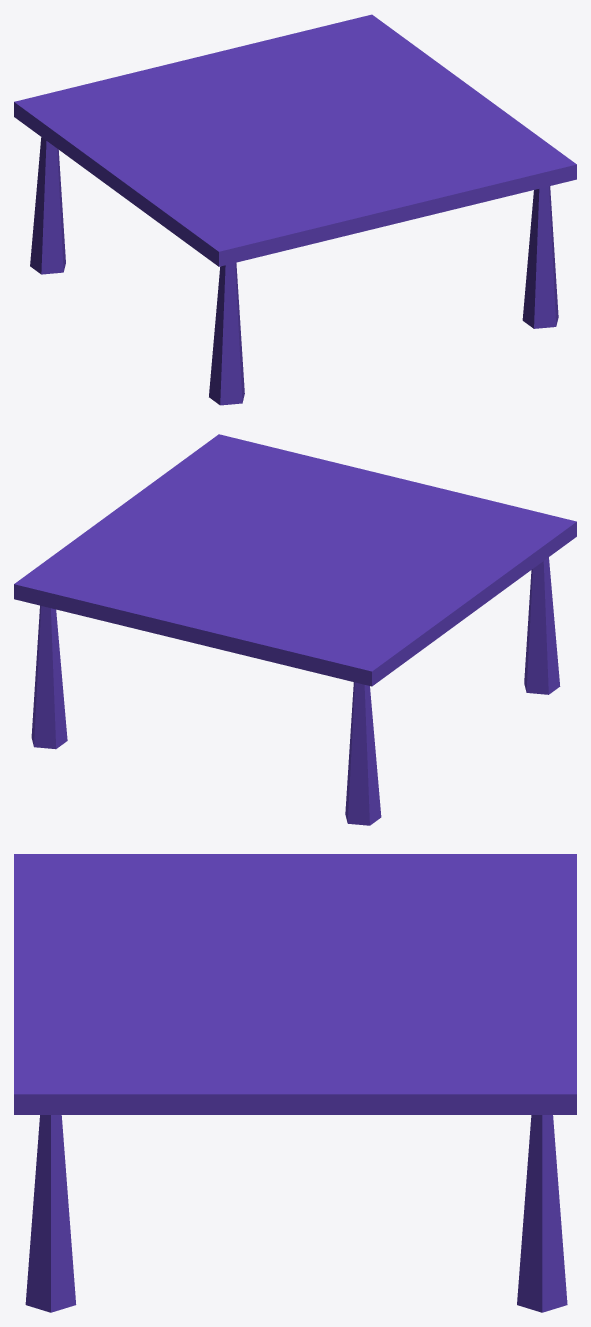
File: KidTable.fbx
3 views of the same model, one above another, from view 1: azimuth 30°, elevation 25°; view 2: azimuth 150°, elevation 25°; view 3: azimuth 270°, elevation 25° (orthographic). The views are drawn at different scales.
Visible parts, largest first — view 1: pCube8; view 2: pCube8; view 3: pCube8.
Part boxes in pixels (box(x1,y1,x2,y2)): pCube8: box(14, 14, 576, 405); pCube8: box(14, 434, 576, 825); pCube8: box(14, 854, 576, 1312).
Bounding box in the file's own units: 3 × 1.29 × 2.98.
